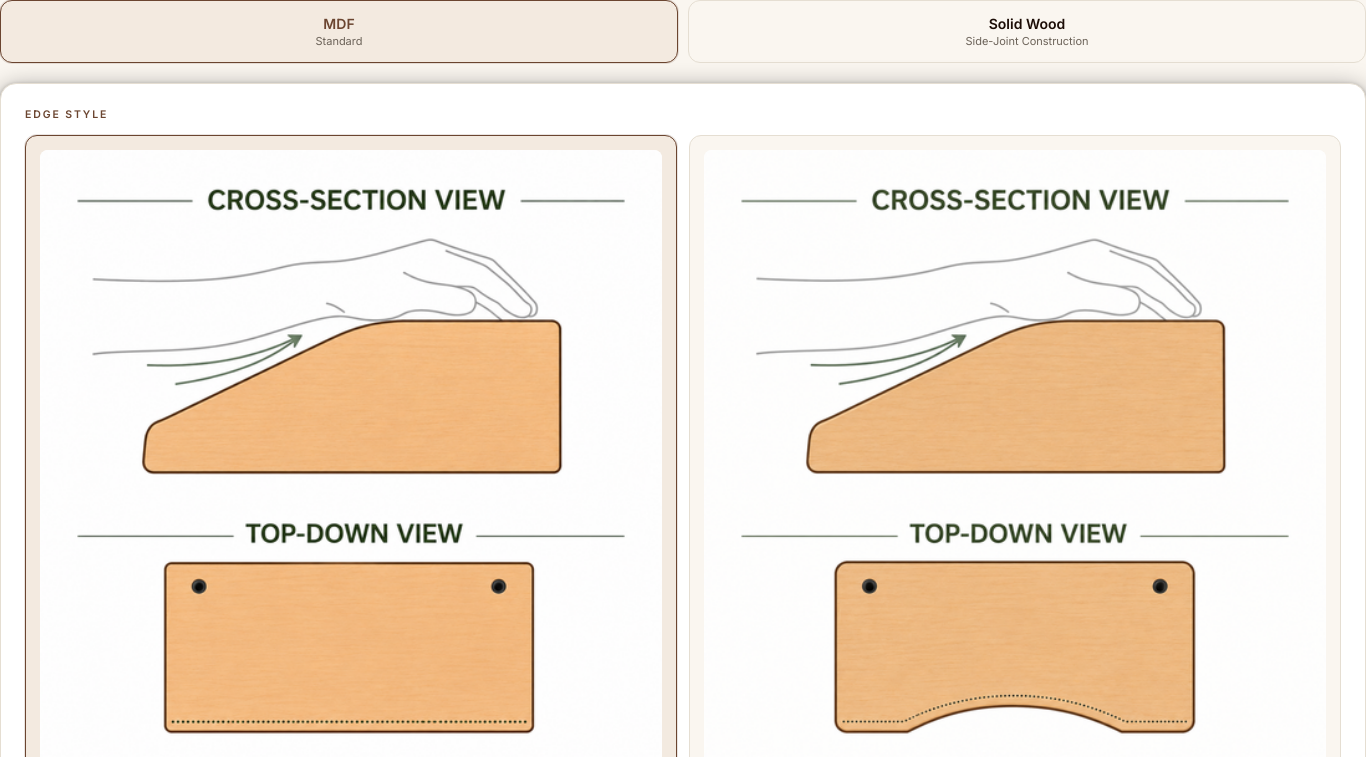
RectCalculator — Solid Wood category › shows wood species after switching to Solid Wood
The image size is (1366, 757).
Click the text "Solid Wood" at (1027, 24), box [989,15,1065,32]
(page scrolled)
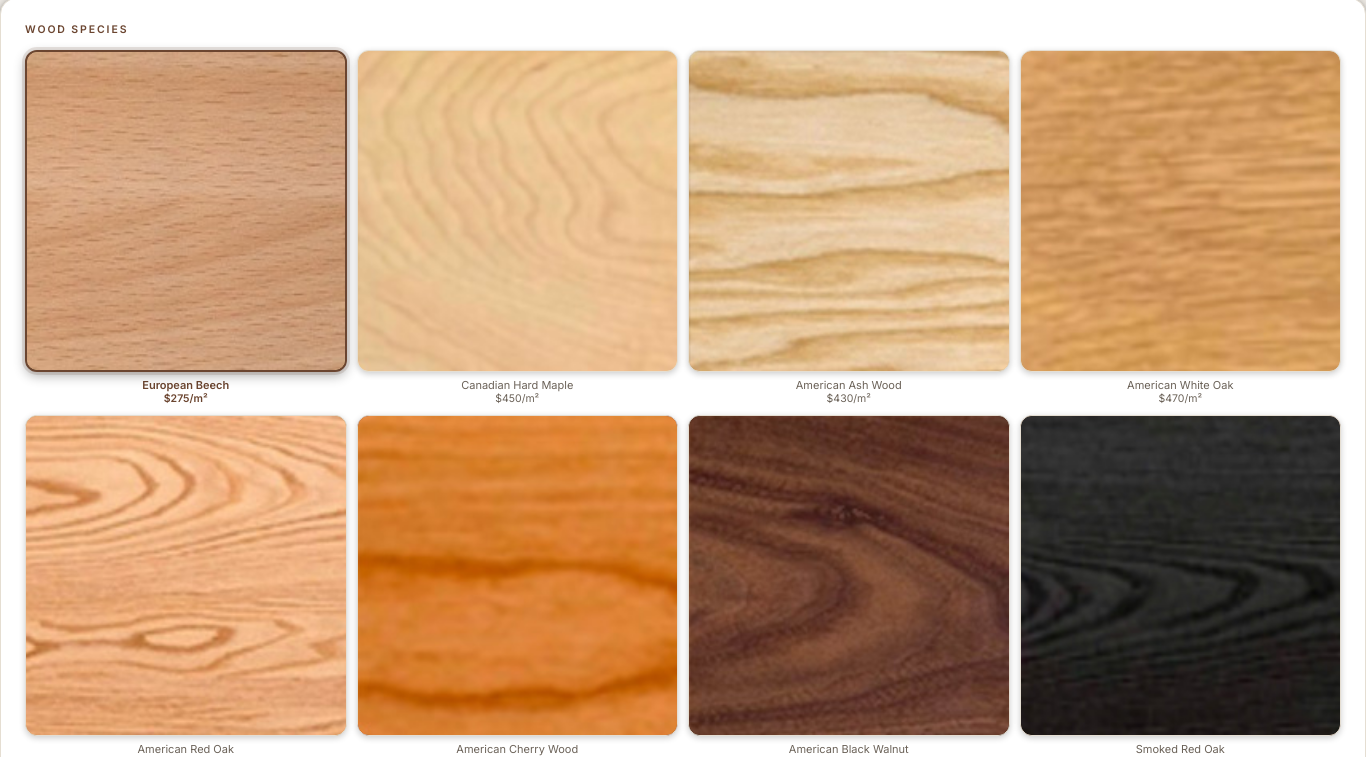
Expected: the text "Wood Species" is shown, [25,23,128,36]
Expected: the text "European Beech" is shown, [142,378,229,392]
